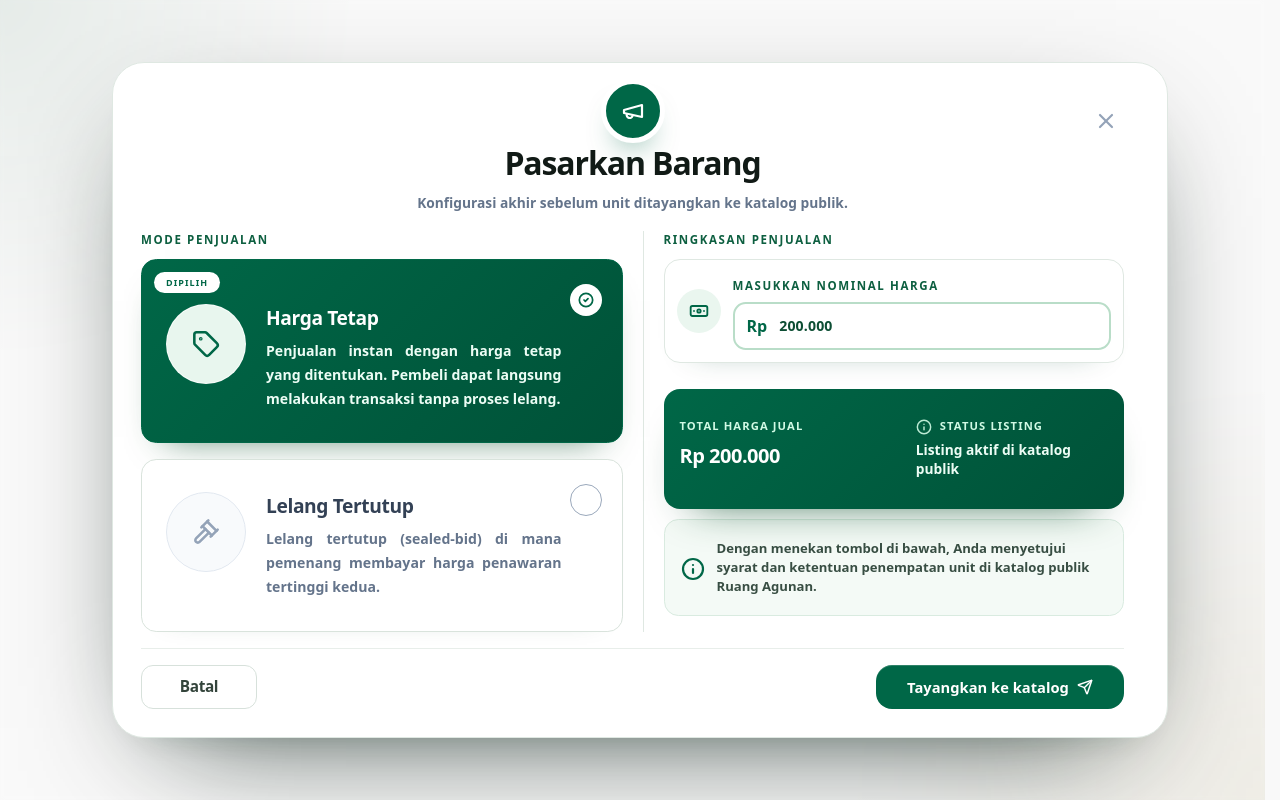
Scenario: AdminMarketingForm › keeps success toast above the marketing modal and closes the modal after publish succeeds
Expected: the icon with class "lucide-megaphone" is shown, [620,100,644,124]
Click the button "Tayangkan ke katalog" at (1000,686), box [876,664,1124,708]
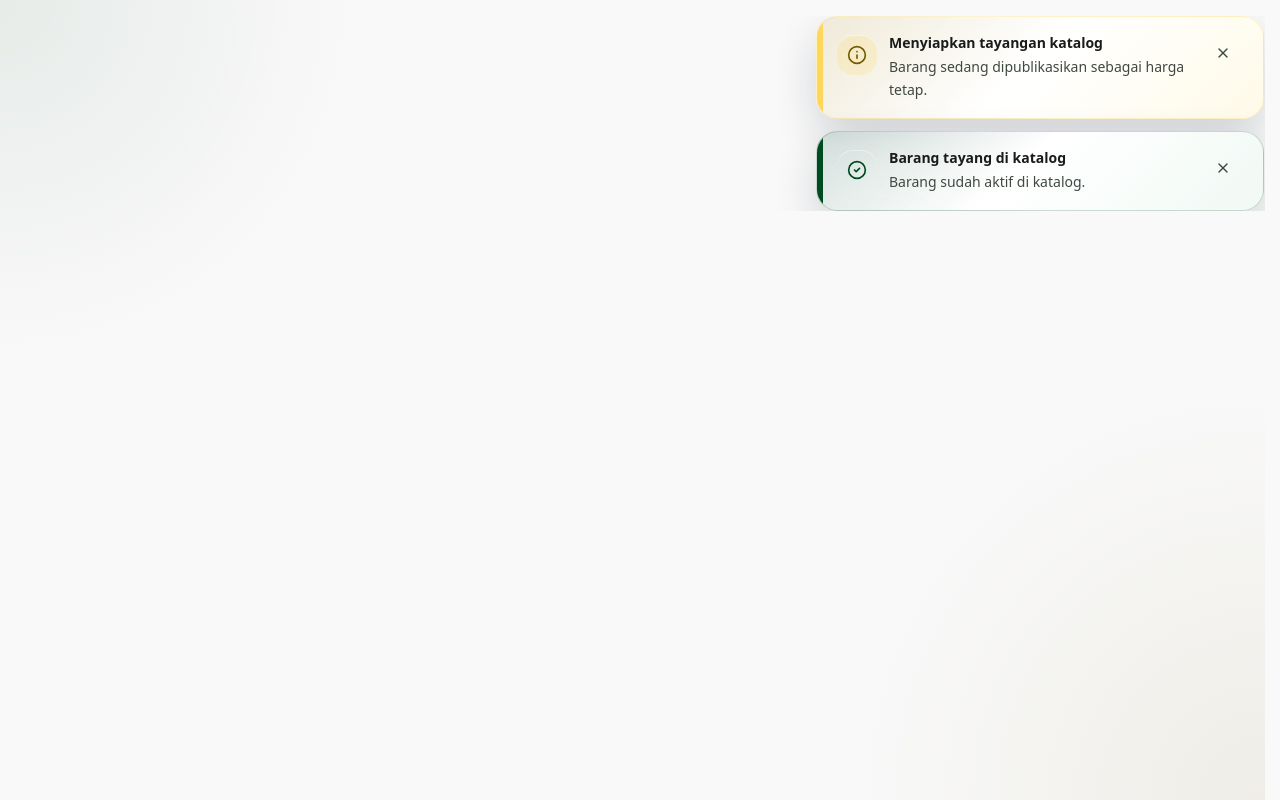
Result: the heading "Pasarkan Barang" is gone
Result: the text "Barang tayang di katalog" is shown at [889,148,1066,167]
